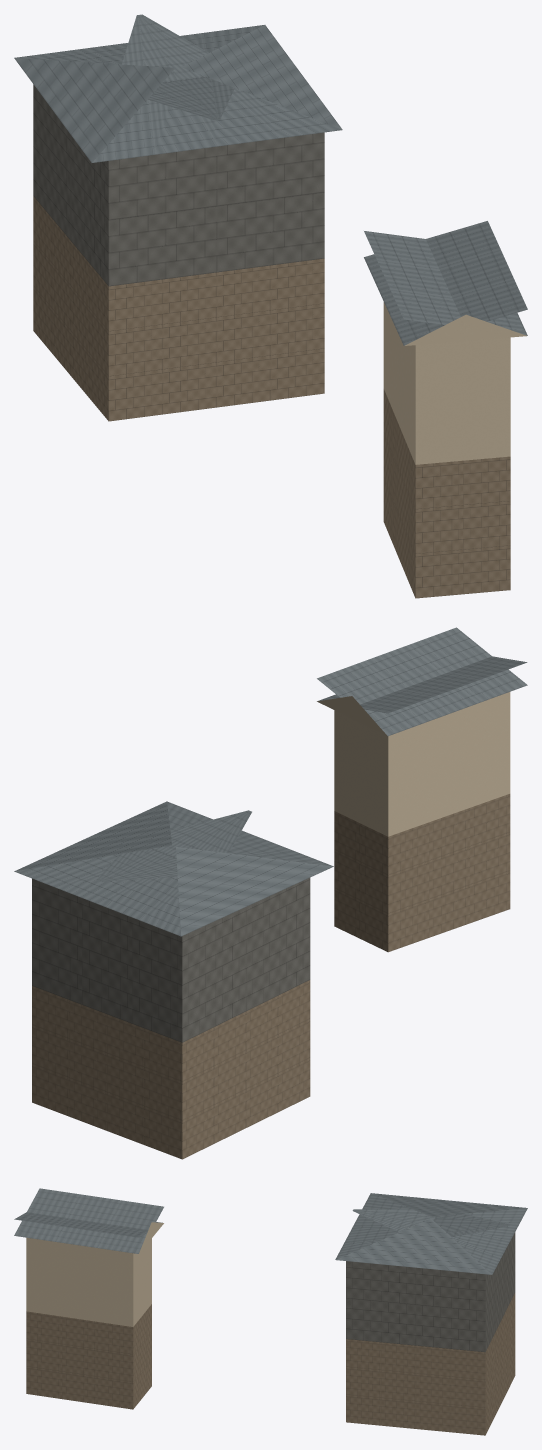
Rendered from bld_c10_7_514.gltf.
3 views of the same model, one above another, from view 1: azimuth 30°, elevation 25°; view 2: azimuth 150°, elevation 25°; view 3: azimuth 270°, elevation 25° (orthographic). The views are drawn at different scales.
Visible parts, largest first — view 1: bld_c10_7_514; view 2: bld_c10_7_514; view 3: bld_c10_7_514.
Part boxes in pixels (x1=…): bld_c10_7_514: x1=14, y1=14, x2=527, y2=598; bld_c10_7_514: x1=14, y1=627, x2=527, y2=1159; bld_c10_7_514: x1=14, y1=1188, x2=527, y2=1435.
Size of the model in its own units: 10.74 by 11.2 by 28.48.
Materials: 5 (5 with a texture image).
